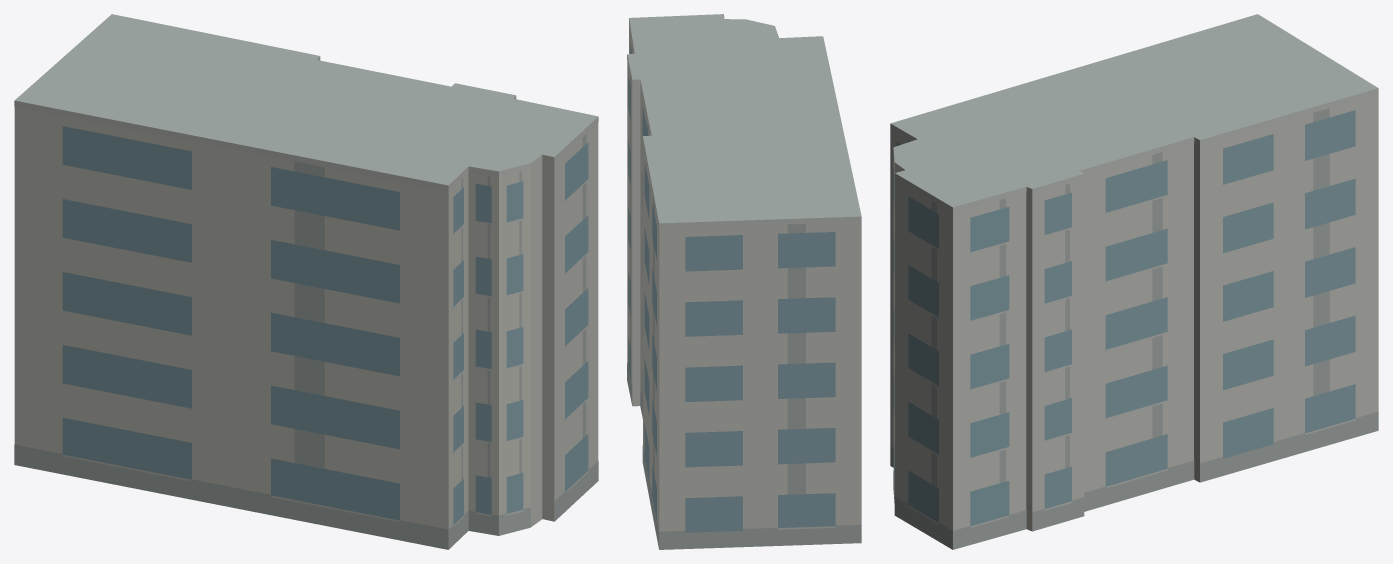
Rendered from survey-upis-32533721.glb.
3 renders of one model, left to right at view 1: azimuth 30°, elevation 25°; view 2: azimuth 150°, elevation 25°; view 3: azimuth 270°, elevation 25°, orthographic. The views are drawn at different scales.
Visible parts, largest first — view 1: survey-upis-32533721.tmp; view 2: survey-upis-32533721.tmp; view 3: survey-upis-32533721.tmp.
Boxes of the visible parts, box(x1,y1,x2,y2) form: survey-upis-32533721.tmp: box(14, 14, 598, 549); survey-upis-32533721.tmp: box(627, 14, 861, 549); survey-upis-32533721.tmp: box(890, 14, 1378, 549).
Bounding box in the file's own units: 17.69 × 14.6 × 18.88.
